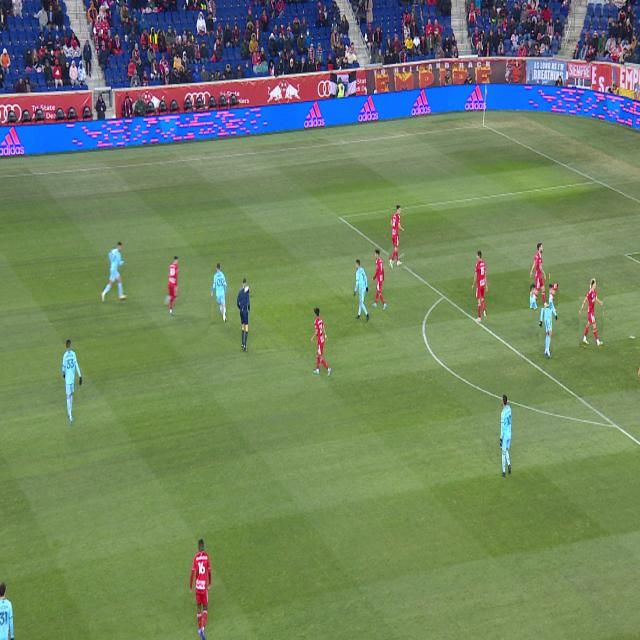football: (245, 285, 249, 293)
player: (190, 539, 211, 640), (62, 340, 82, 424), (101, 241, 127, 302), (580, 279, 603, 346), (310, 308, 331, 377), (539, 284, 558, 358), (472, 250, 488, 323), (531, 244, 549, 308), (353, 260, 370, 322), (211, 264, 228, 322), (500, 395, 512, 477), (389, 206, 404, 269), (372, 249, 387, 311), (0, 582, 14, 640), (166, 255, 179, 316)
referee: (237, 278, 250, 352)
